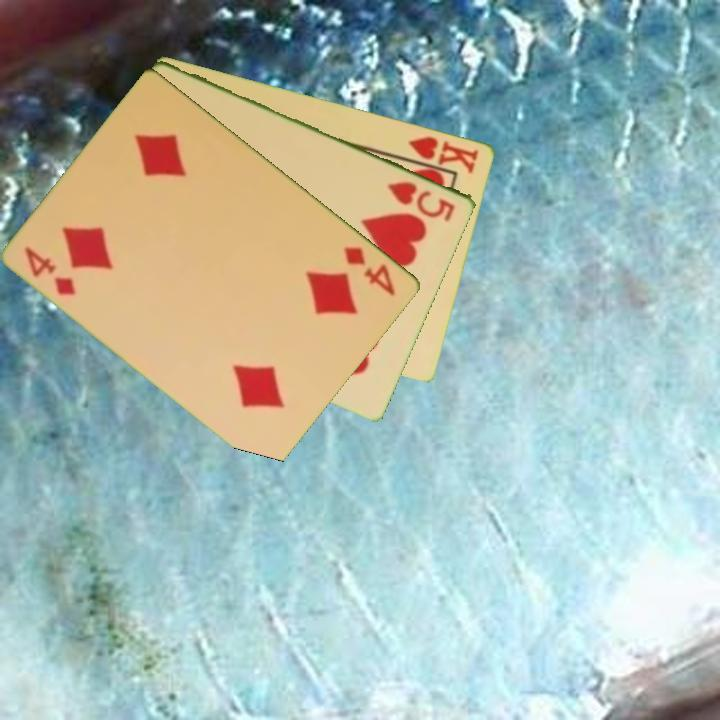4d: (340, 242, 399, 299), (21, 242, 79, 299)
5h: (384, 177, 459, 224)
Kh: (397, 132, 482, 176)
